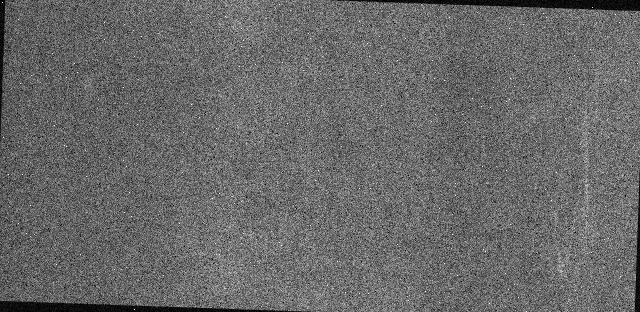silk_spot: (506, 86, 627, 288)
